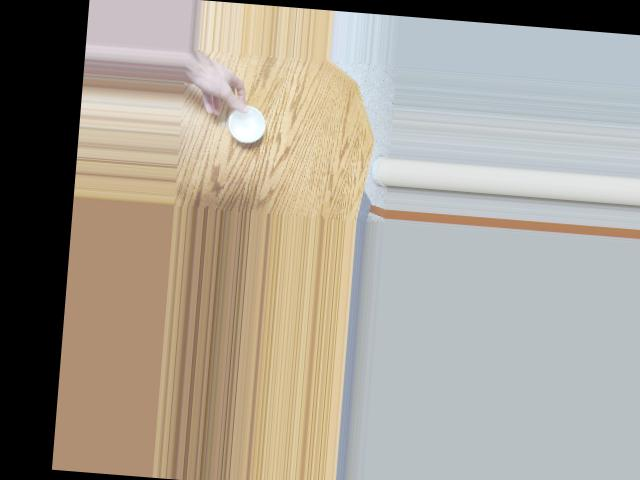cotage: (227, 103, 270, 144)
